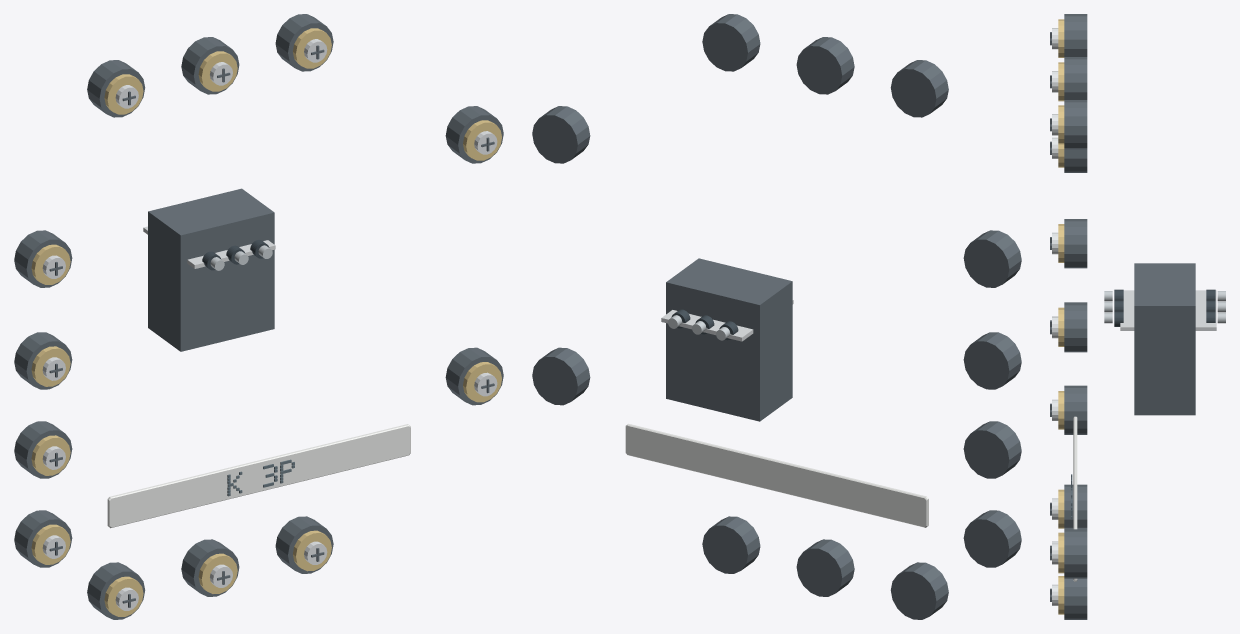
Rendered from contactor.glb.
3 renders of one model, left to right at view 1: azimuth 30°, elevation 25°; view 2: azimuth 150°, elevation 25°; view 3: azimuth 270°, elevation 25°, orthographic. The views are drawn at different scales.
Visible parts, largest first — view 1: contactor-preview; view 2: contactor-preview; view 3: contactor-preview.
Boxes of the visible parts, x1,y1,x2,y2 form: contactor-preview: (14, 14, 503, 619); contactor-preview: (532, 14, 1021, 619); contactor-preview: (1050, 14, 1225, 619).
Bounding box in the file's own units: 3.27 × 3.61 × 1.11.
